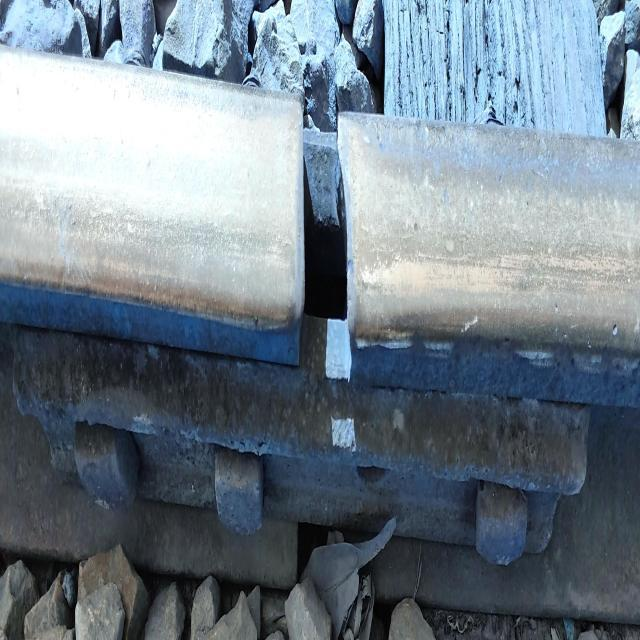Defective Joint: (18, 328, 593, 547)
